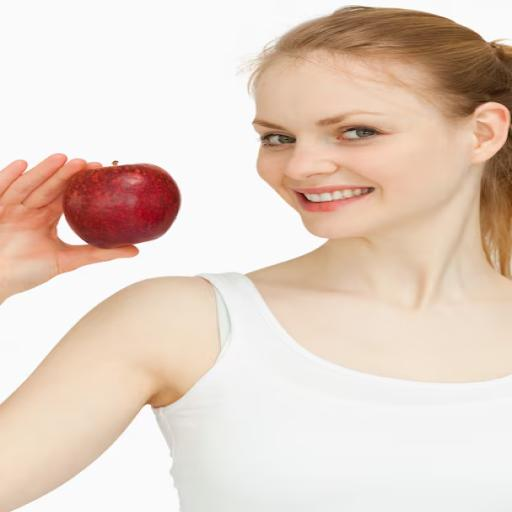apple: (63, 166, 182, 248)
